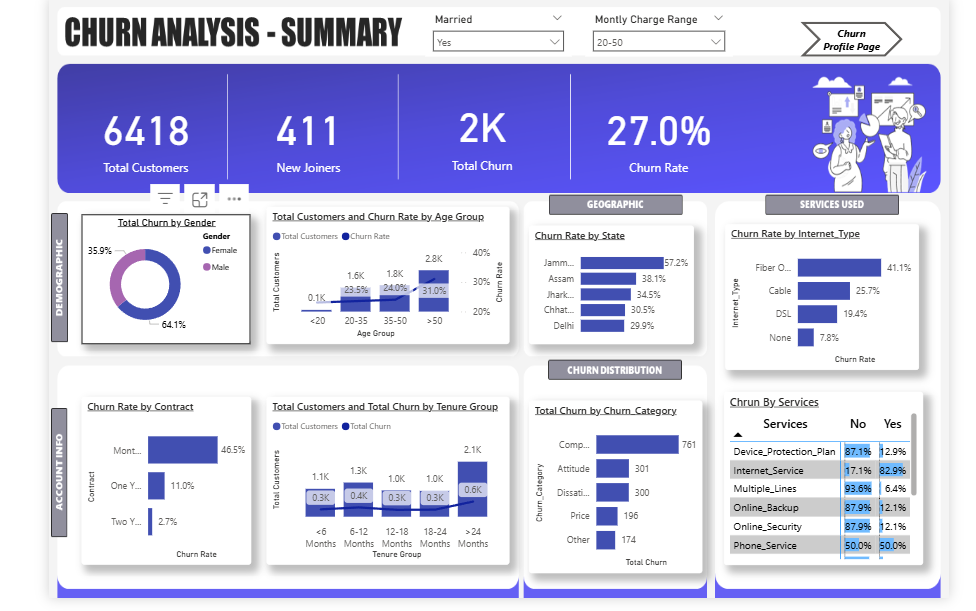

What the dashboard file says about the page in this screenshot:
{"tool":"powerbi","page":{"name":"Summary","canvas":[1200,800],"ordinal":0},"visuals":[{"type":"cardVisual","fields":{"Data":["tbl_measures.Total Customers"]},"box":[41.2,127.5,175,112.5],"z":0},{"type":"cardVisual","fields":{"Data":["tbl_measures.New Joiners"]},"box":[255,127.5,182.5,115],"z":1000},{"type":"cardVisual","fields":{"Data":["tbl_measures.Churn Rate"]},"box":[725,127.5,176.2,112.5],"z":2000},{"type":"cardVisual","fields":{"Data":["tbl_measures.Total Churn"]},"box":[491.4,124.3,172.9,115.7],"z":3000},{"type":"donutChart","fields":{"Category":["prod_Churn.Gender"],"Y":["tbl_measures.Total Churn"]},"box":[42.9,288.6,225.7,172.9],"z":4000},{"type":"lineStackedColumnComboChart","fields":{"Y":["tbl_measures.Total Customers"],"Y2":["tbl_measures.Churn Rate"],"Category":["Mapping_AgeGrp.Age  Group"]},"box":[290,278.6,324.3,182.9],"z":5000},{"type":"clusteredBarChart","fields":{"Category":["prod_Churn.Payment_Method"],"Y":["tbl_measures.Churn Rate"]},"box":[70,805,250,197.5],"z":6000},{"type":"clusteredBarChart","fields":{"Category":["prod_Churn.Contract"],"Y":["tbl_measures.Churn Rate"]},"box":[20,996.7,270,196.7],"z":7000},{"type":"lineStackedColumnComboChart","fields":{"Category":["Mapping_TenureGrp.Tenure Group"],"Y":["tbl_measures.Total Customers"],"Y2":["tbl_measures.Churn Rate"]},"box":[467.5,905,412.5,235],"z":8000},{"type":"clusteredBarChart","title":"Churn Rate by State Top 5","fields":{"Category":["prod_Churn.State"],"Y":["tbl_measures.Churn Rate"]},"box":[762.5,1095,217.5,235],"z":9000},{"type":"clusteredBarChart","fields":{"Category":["prod_Churn.Churn_Category"],"Y":["tbl_measures.Total Churn"]},"box":[292.5,1055,347.5,295],"z":10000},{"type":"clusteredBarChart","fields":{"Category":["prod_Churn.Internet_Type"],"Y":["tbl_measures.Churn Rate"]},"box":[902,302,258,194],"z":11000},{"type":"pivotTable","title":"Chrun By Services","fields":{"Rows":["prod_Services.Services"],"Columns":["prod_Services.Status"],"Values":["Sum(prod_Services.Churn Status)"]},"box":[900,524.3,265.7,231.4],"z":12000},{"type":"slicer","fields":{"Values":["prod_Services.Montly Charge Status"]},"box":[715,15,196.7,63.3],"z":13000},{"type":"slicer","fields":{"Values":["prod_Services.Married"]},"box":[501.7,15,195,63.3],"z":14000},{"type":"clusteredBarChart","fields":{"Category":["prod_Churn.State"],"Y":["tbl_measures.Churn Rate"]},"box":[640,302.5,220,158.8],"z":15000},{"type":"clusteredBarChart","fields":{"Y":["tbl_measures.Total Churn"],"Category":["prod_Churn.Churn_Category"]},"box":[640,536.2,231.2,230],"z":16000},{"type":"clusteredBarChart","fields":{"Y":["tbl_measures.Churn Rate"],"Category":["prod_Churn.Contract"]},"box":[42.5,531.2,226.2,223.8],"z":17000},{"type":"lineStackedColumnComboChart","fields":{"Category":["Mapping_TenureGrp.Tenure Group"],"Y":["tbl_measures.Total Customers"],"Y2":["tbl_measures.Total Churn"]},"box":[290,531,324,224],"z":18000},{"type":"actionButton","box":[1001.7,31.7,136.7,46.7],"z":19000}]}

Visuals, with their boxes on the page's 1200x800 design canvas (x1, y1, x2, y2). These are canvas units, not pixel positions in the 976x611 screenshot, which may show the page scaled, cropped or inside an application window:
cardVisual - tbl_measures.Total Customers: rect(41, 128, 216, 240)
cardVisual - tbl_measures.New Joiners: rect(255, 128, 438, 242)
cardVisual - tbl_measures.Churn Rate: rect(725, 128, 901, 240)
cardVisual - tbl_measures.Total Churn: rect(491, 124, 664, 240)
donutChart - prod_Churn.Gender x tbl_measures.Total Churn: rect(43, 289, 269, 462)
lineStackedColumnComboChart - tbl_measures.Total Customers x tbl_measures.Churn Rate: rect(290, 279, 614, 462)
clusteredBarChart - prod_Churn.Payment_Method x tbl_measures.Churn Rate: rect(70, 805, 320, 1002)
clusteredBarChart - prod_Churn.Contract x tbl_measures.Churn Rate: rect(20, 997, 290, 1193)
lineStackedColumnComboChart - Mapping_TenureGrp.Tenure Group x tbl_measures.Total Customers: rect(468, 905, 880, 1140)
"Churn Rate by State Top 5" clusteredBarChart: rect(762, 1095, 980, 1330)
clusteredBarChart - prod_Churn.Churn_Category x tbl_measures.Total Churn: rect(292, 1055, 640, 1350)
clusteredBarChart - prod_Churn.Internet_Type x tbl_measures.Churn Rate: rect(902, 302, 1160, 496)
"Chrun By Services" pivotTable: rect(900, 524, 1166, 756)
slicer - prod_Services.Montly Charge Status: rect(715, 15, 912, 78)
slicer - prod_Services.Married: rect(502, 15, 697, 78)
clusteredBarChart - prod_Churn.State x tbl_measures.Churn Rate: rect(640, 302, 860, 461)
clusteredBarChart - tbl_measures.Total Churn x prod_Churn.Churn_Category: rect(640, 536, 871, 766)
clusteredBarChart - tbl_measures.Churn Rate x prod_Churn.Contract: rect(42, 531, 269, 755)
lineStackedColumnComboChart - Mapping_TenureGrp.Tenure Group x tbl_measures.Total Customers: rect(290, 531, 614, 755)
actionButton: rect(1002, 32, 1138, 78)
